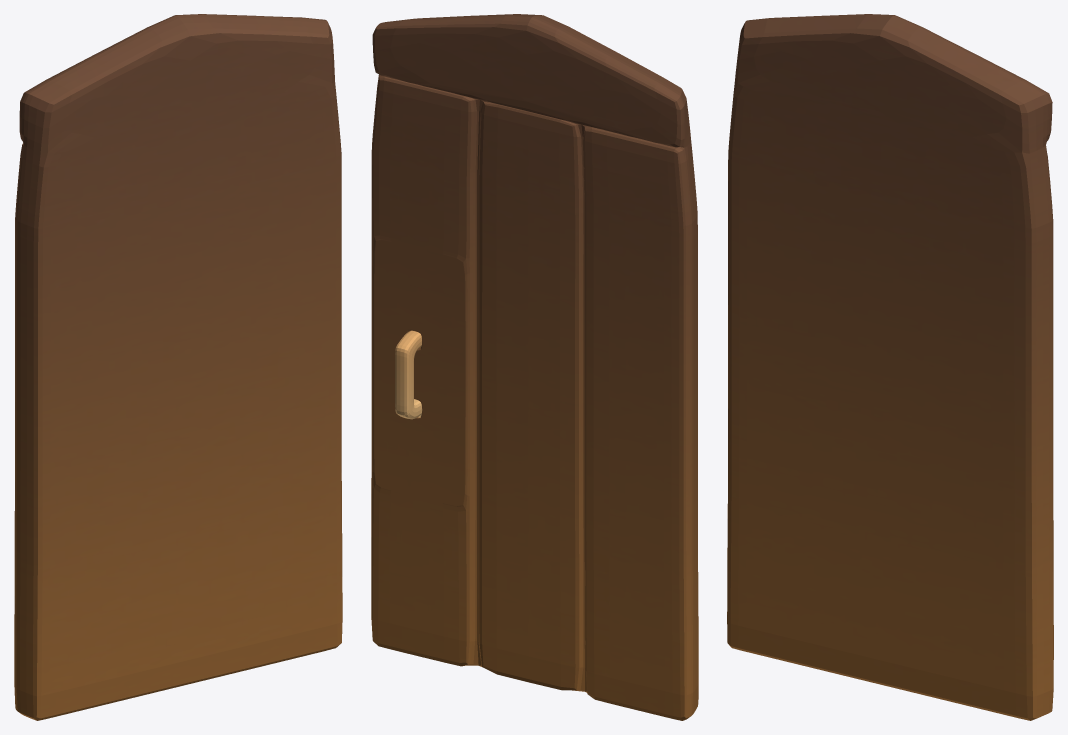
Rendered from door.fbx.
The picture shows the model from 3 angles, left to right: view 1: azimuth 30°, elevation 25°; view 2: azimuth 150°, elevation 25°; view 3: azimuth 330°, elevation 25°; orthographic projection.
Visible parts, largest first — view 1: Walls.001; view 2: Walls.001; view 3: Walls.001.
Boxes of the visible parts, box(x1,y1,x2,y2) form: Walls.001: box(14, 14, 342, 720); Walls.001: box(371, 14, 698, 720); Walls.001: box(727, 14, 1053, 720).
Bounding box in the file's own units: 96.88 × 191 × 16.99.
